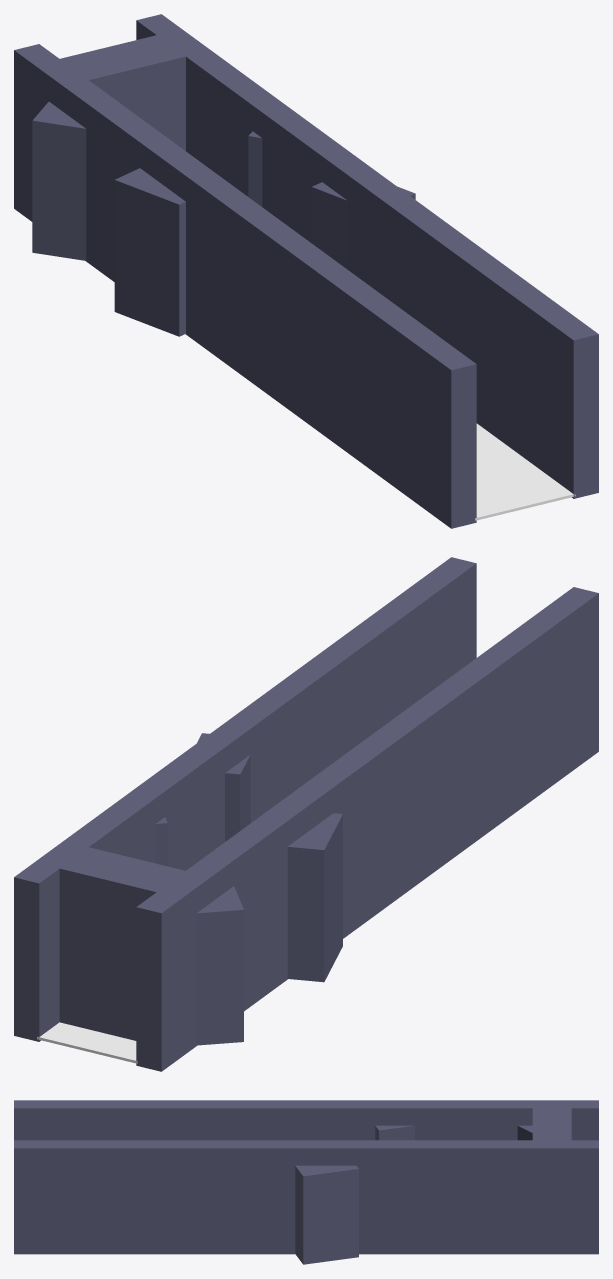
Rendered from third_level_model.gltf.
The picture shows the model from 3 angles, top to bottom: view 1: azimuth 30°, elevation 25°; view 2: azimuth 150°, elevation 25°; view 3: azimuth 270°, elevation 25°; orthographic projection. The views are drawn at different scales.
Parts seen in each view (by area): view 1: MeshInstance3D3, MeshInstance3D2, MeshInstance3D11, MeshInstance3D4, MeshInstance3D13, MeshInstance3D, MeshInstance3D12, MeshInstance3D10; view 2: MeshInstance3D3, MeshInstance3D2, MeshInstance3D4, MeshInstance3D11, MeshInstance3D13, MeshInstance3D, MeshInstance3D12; view 3: MeshInstance3D2, MeshInstance3D3, MeshInstance3D12, MeshInstance3D4, MeshInstance3D11, MeshInstance3D13.
Part boxes in pixels (x1=…): MeshInstance3D3: x1=14, y1=44, x2=476, y2=528; MeshInstance3D2: x1=136, y1=14, x2=598, y2=498; MeshInstance3D11: x1=114, y1=168, x2=185, y2=336; MeshInstance3D4: x1=49, y1=34, x2=189, y2=150; MeshInstance3D13: x1=32, y1=101, x2=86, y2=260; MeshInstance3D: x1=475, y1=423, x2=575, y2=520; MeshInstance3D12: x1=311, y1=182, x2=415, y2=269; MeshInstance3D10: x1=248, y1=131, x2=262, y2=206; MeshInstance3D3: x1=136, y1=587, x2=598, y2=1071; MeshInstance3D2: x1=14, y1=557, x2=476, y2=1041; MeshInstance3D4: x1=59, y1=846, x2=185, y2=1040; MeshInstance3D11: x1=287, y1=813, x2=342, y2=982; MeshInstance3D13: x1=196, y1=886, x2=243, y2=1045; MeshInstance3D: x1=37, y1=1022, x2=137, y2=1063; MeshInstance3D12: x1=197, y1=733, x2=250, y2=841; MeshInstance3D2: x1=14, y1=1140, x2=598, y2=1254; MeshInstance3D3: x1=14, y1=1100, x2=598, y2=1140; MeshInstance3D12: x1=295, y1=1165, x2=358, y2=1264; MeshInstance3D4: x1=532, y1=1104, x2=571, y2=1141; MeshInstance3D11: x1=375, y1=1125, x2=414, y2=1140; MeshInstance3D13: x1=517, y1=1125, x2=532, y2=1140.
Bounding box in the file's own units: 84.21 × 64.18 × 300.
